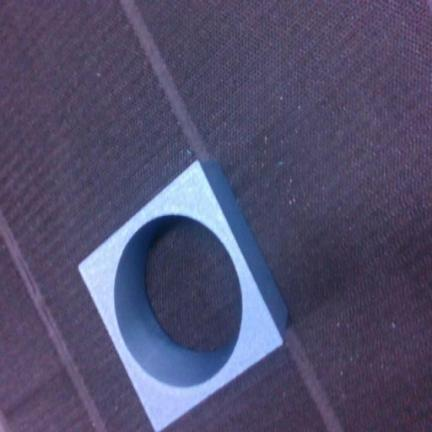square: (78, 161, 287, 431), (79, 162, 287, 430)
